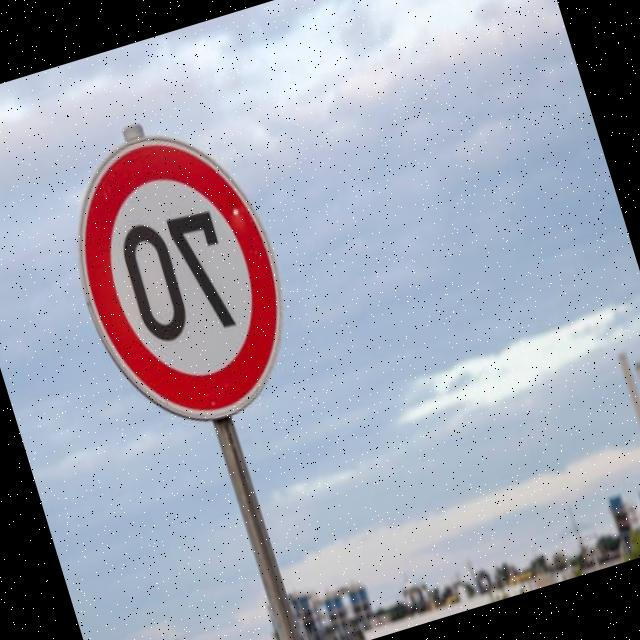speed_limit_70: (33, 108, 325, 470)
